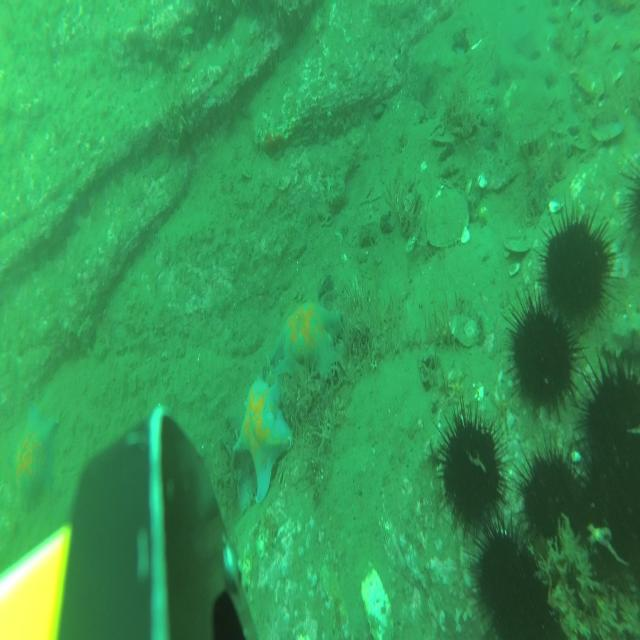echinus: (536, 196, 622, 330), (434, 402, 506, 537), (507, 286, 579, 421), (514, 434, 586, 554), (581, 352, 640, 483), (583, 453, 640, 582), (477, 522, 528, 620), (497, 581, 551, 640), (622, 152, 640, 261)
holothurian: (611, 287, 640, 351)
scallop: (426, 191, 470, 249), (449, 312, 479, 348), (504, 229, 531, 257)
starfish: (234, 372, 292, 502), (9, 398, 58, 519), (277, 301, 341, 377)
